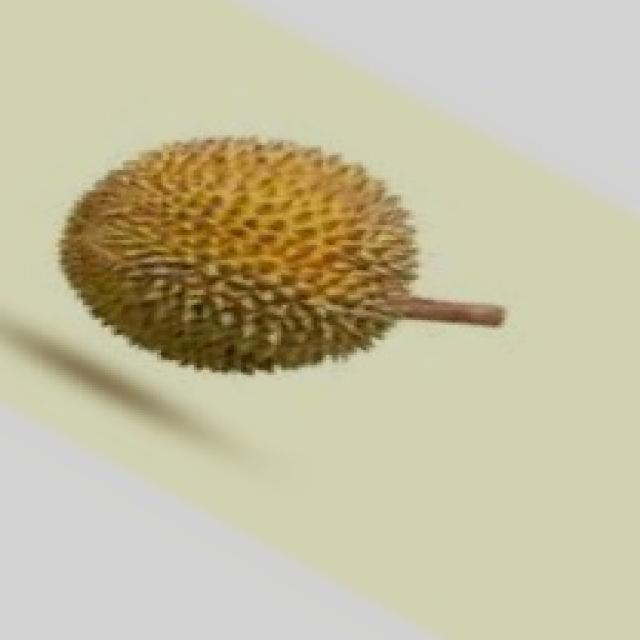fruit: (37, 98, 443, 422)
